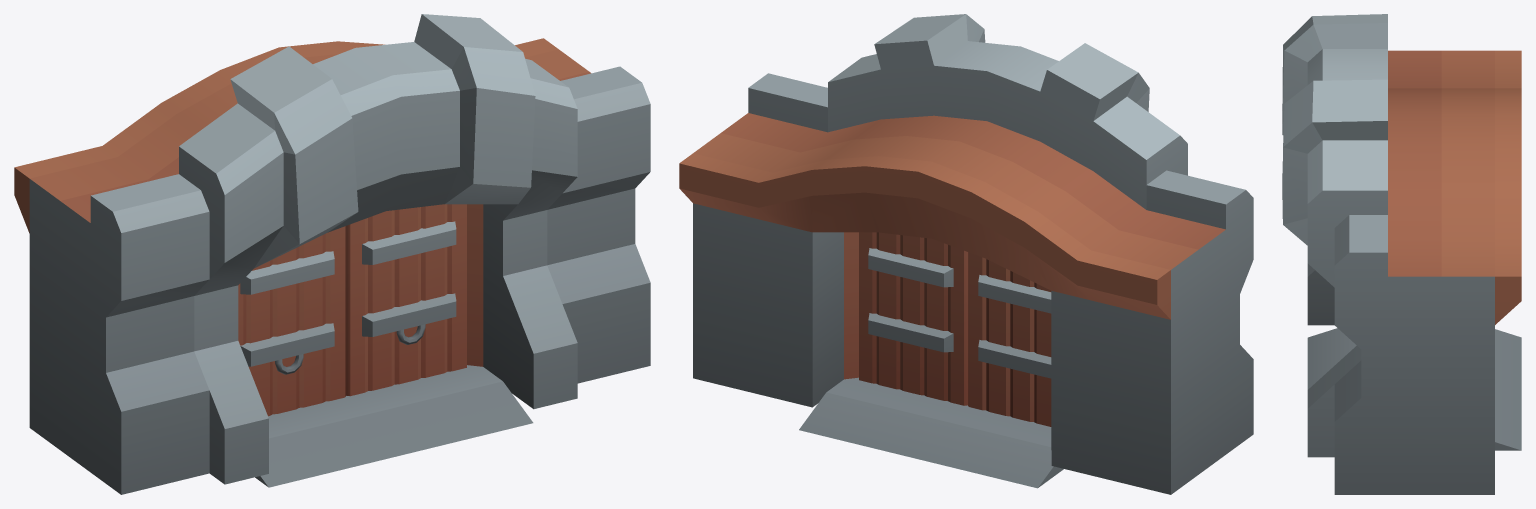
Rendered from gate.glb.
The picture shows the model from 3 angles, left to right: view 1: azimuth 30°, elevation 25°; view 2: azimuth 150°, elevation 25°; view 3: azimuth 270°, elevation 25°; orthographic projection. The views are drawn at different scales.
Visible parts, largest first — view 1: wall_straight_gate, wall_straight_gate_door_left, wall_straight_gate_door_right; view 2: wall_straight_gate, wall_straight_gate_door_left, wall_straight_gate_door_right; view 3: wall_straight_gate.
Boxes of the visible parts, left/top/right/bottom form: wall_straight_gate: left=14, top=14, right=650, bottom=494; wall_straight_gate_door_left: left=346, top=204, right=466, bottom=396; wall_straight_gate_door_right: left=238, top=226, right=346, bottom=416; wall_straight_gate: left=679, top=14, right=1253, bottom=494; wall_straight_gate_door_left: left=859, top=232, right=967, bottom=405; wall_straight_gate_door_right: left=968, top=252, right=1051, bottom=426; wall_straight_gate: left=1282, top=14, right=1521, bottom=494.
Size of the model in its own units: 2 by 1.41 by 0.8956.
1 material, 1 textured.
